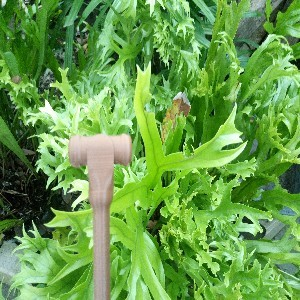palu: (67, 132, 133, 300)
